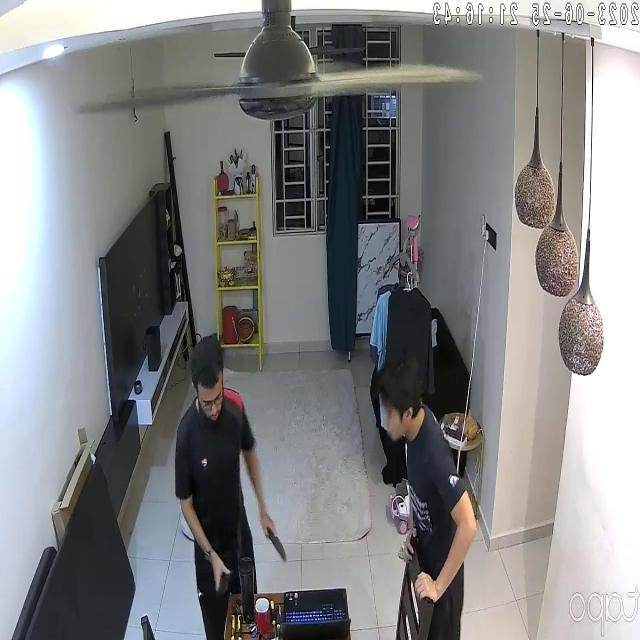Knife: (264, 523, 298, 567)
